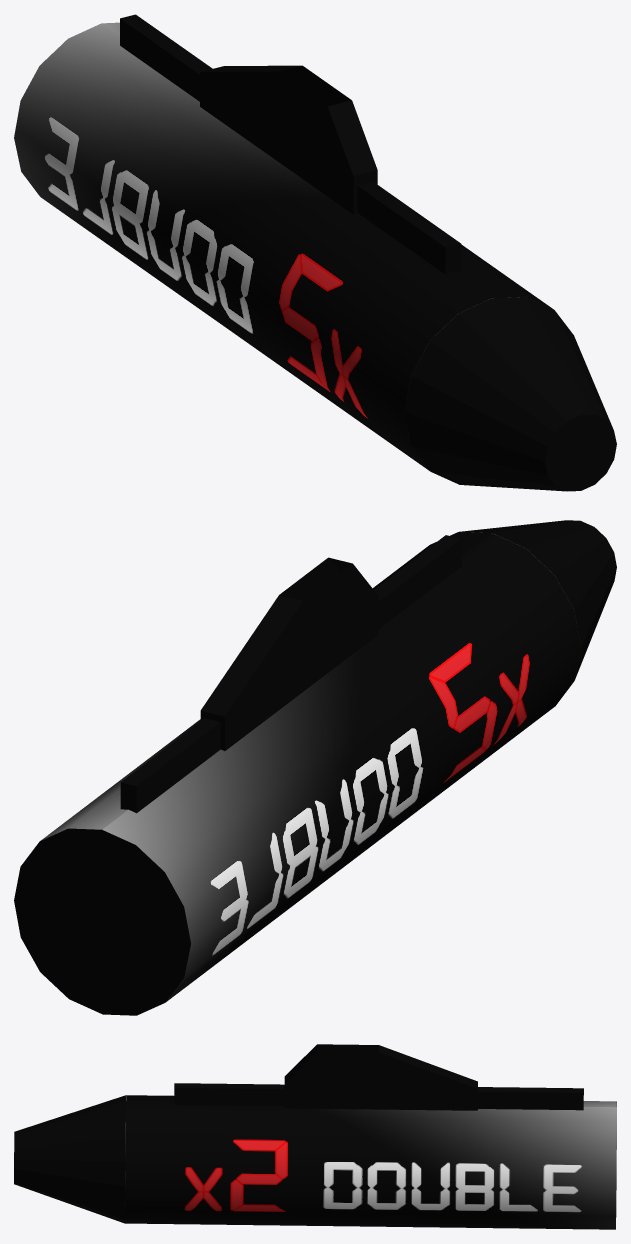
Rendered from Powerup1.fbx.
3 views of the same model, one above another, from view 1: azimuth 30°, elevation 25°; view 2: azimuth 150°, elevation 25°; view 3: azimuth 270°, elevation 25° (orthographic). The views are drawn at different scales.
Visible parts, largest first — view 1: Warsong_Attack_Helicopter:DrawCall_0525; view 2: Warsong_Attack_Helicopter:DrawCall_0525; view 3: Warsong_Attack_Helicopter:DrawCall_0525.
Boxes of the visible parts, x1,y1,x2,y2 form: Warsong_Attack_Helicopter:DrawCall_0525: (14,14,616,491); Warsong_Attack_Helicopter:DrawCall_0525: (14,520,616,1015); Warsong_Attack_Helicopter:DrawCall_0525: (14,1044,616,1229).
Size of the model in its own units: 1035 by 1555 by 4835.
Materials: 1 (1 with a texture image).
